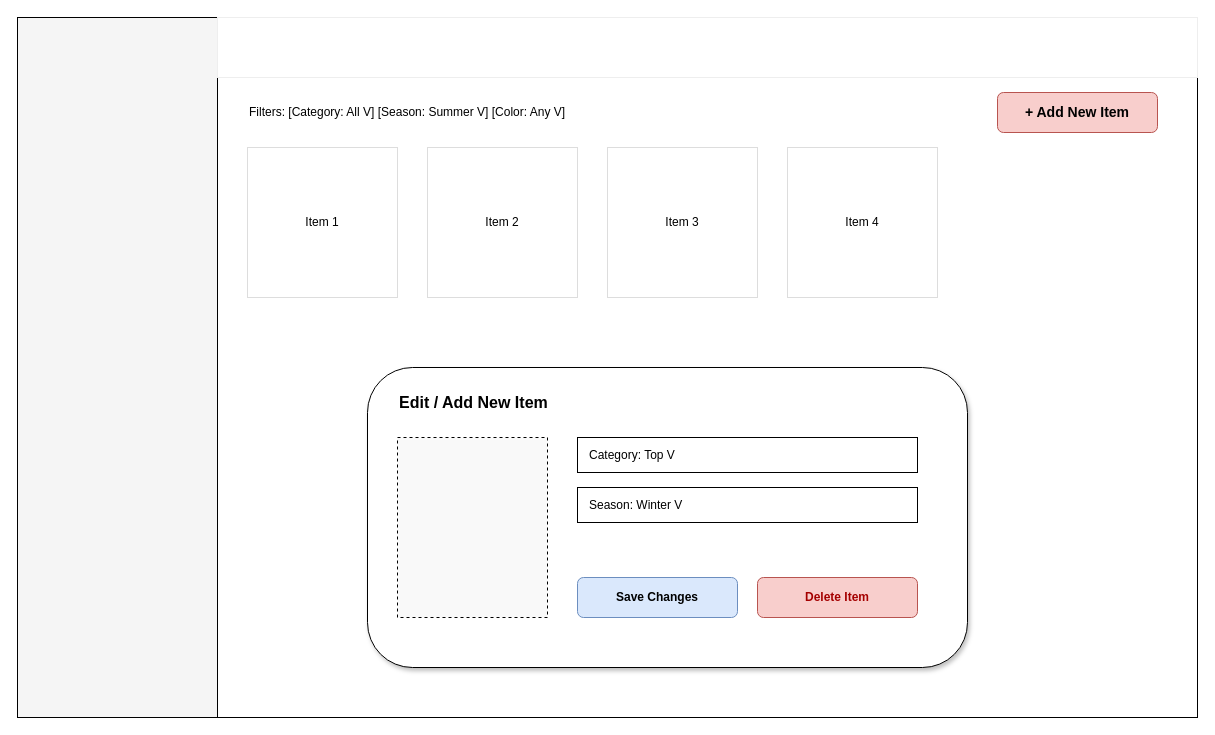
The diagram is 1215 pixels wide and 735 high, and some of its shapes have lost their labels. The centre of each missing label's shape, as x and y in pixels:
"MENU Dashboard My Closet OOTD Generator History Settings" goes at [117,367].
"SmartCloset Dashboard" goes at [707,47].
"Upload Area" goes at [472,527].
